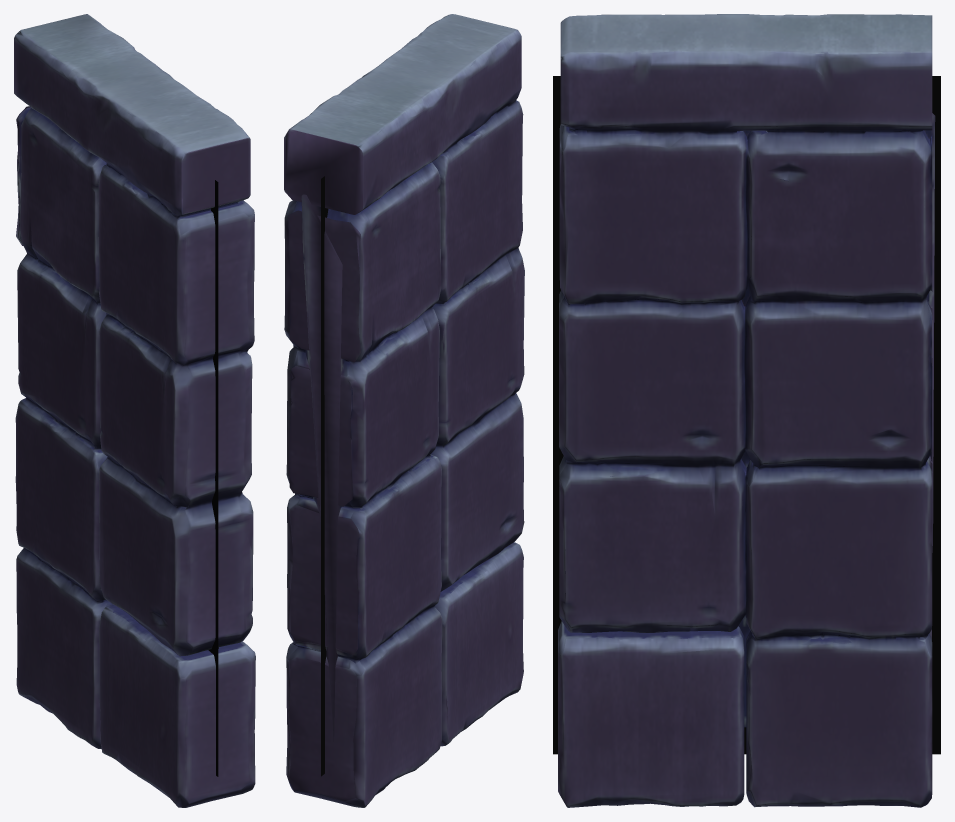
Rendered from wallSegment.glb.
3 views of the same model, side by side, from view 1: azimuth 30°, elevation 25°; view 2: azimuth 150°, elevation 25°; view 3: azimuth 270°, elevation 25° (orthographic). The views are drawn at different scales.
Visible parts, largest first — view 1: Wall_01, Plane; view 2: Wall_01, Plane; view 3: Wall_01, Plane.
Boxes of the visible parts, x1,y1,x2,y2 form: Wall_01: (14, 14, 255, 807); Plane: (208, 180, 218, 776); Wall_01: (284, 14, 524, 807); Plane: (321, 176, 328, 776); Wall_01: (558, 14, 935, 807); Plane: (553, 76, 940, 754).
Size of the model in its own units: 0.0829 by 0.6376 by 0.2966.
2 materials, 1 textured.
